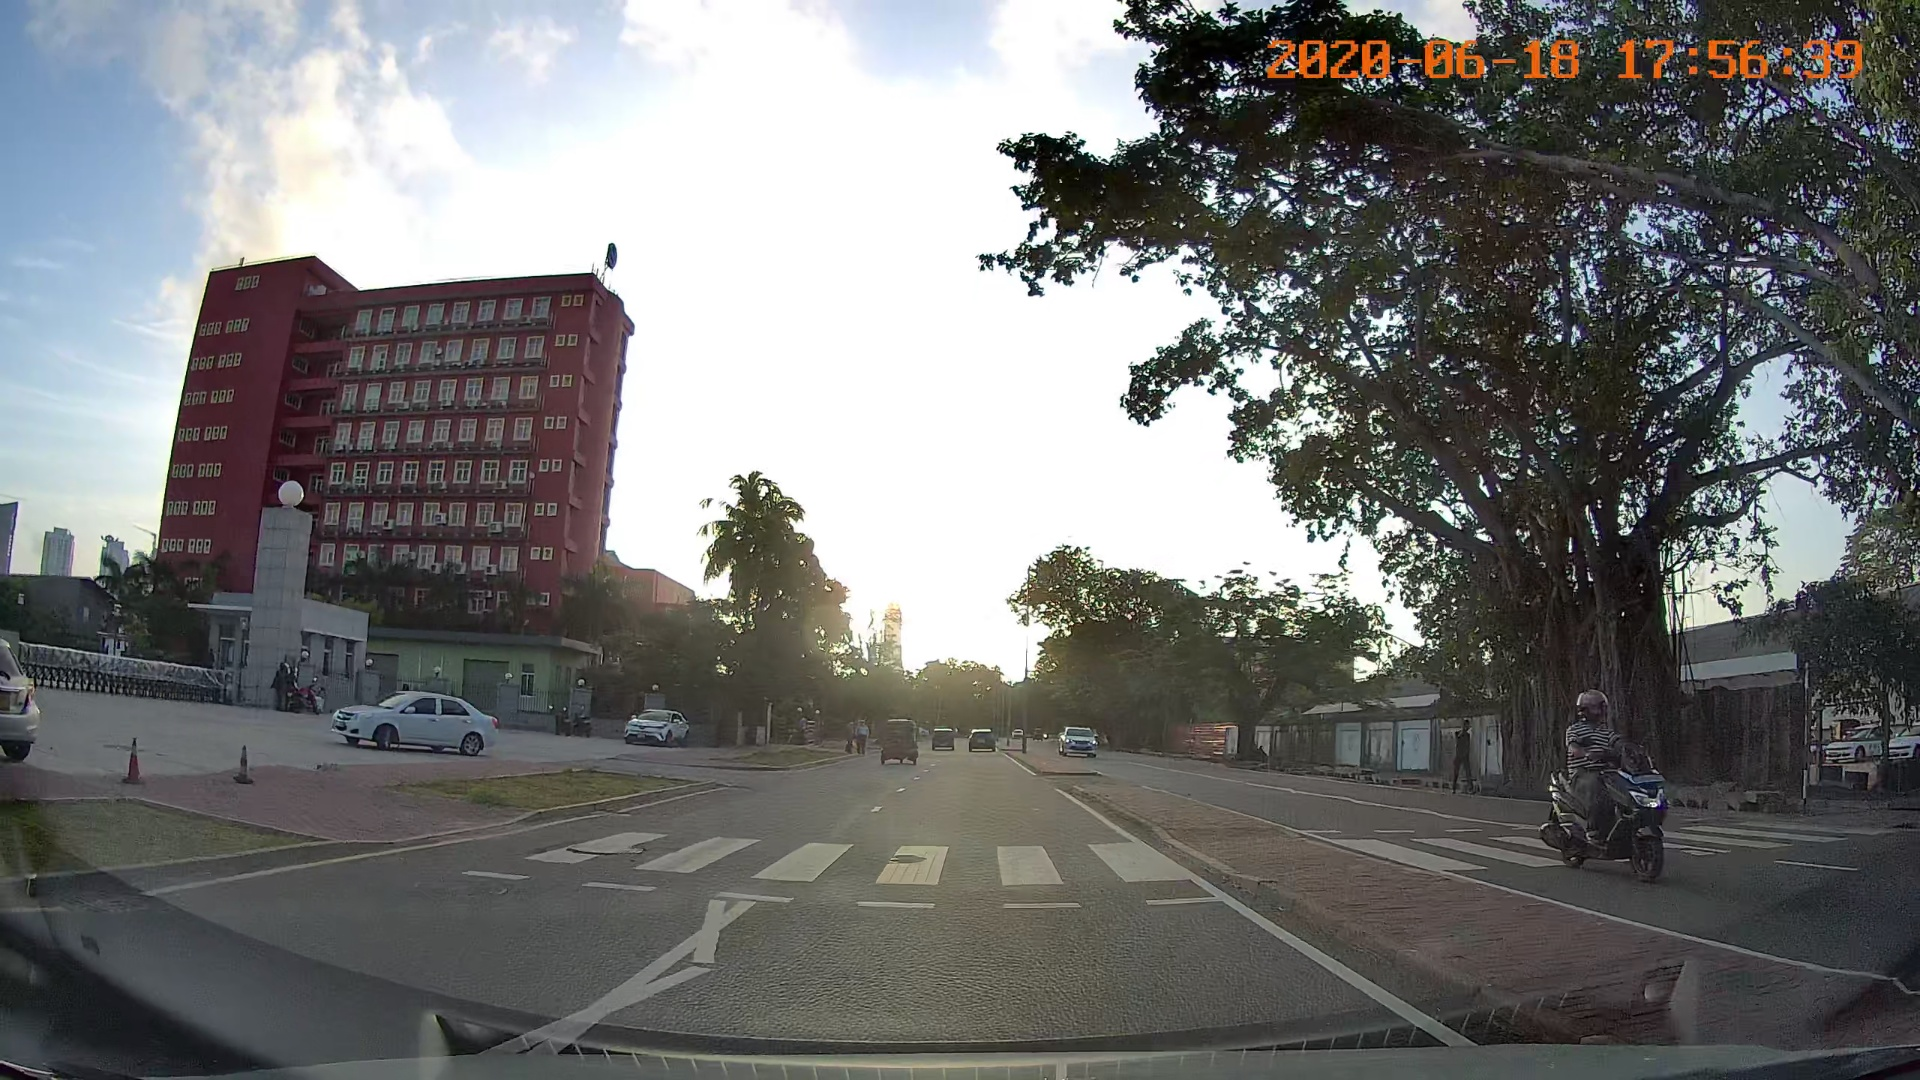crossing: (530, 786, 1203, 928), (1331, 814, 1857, 876)
